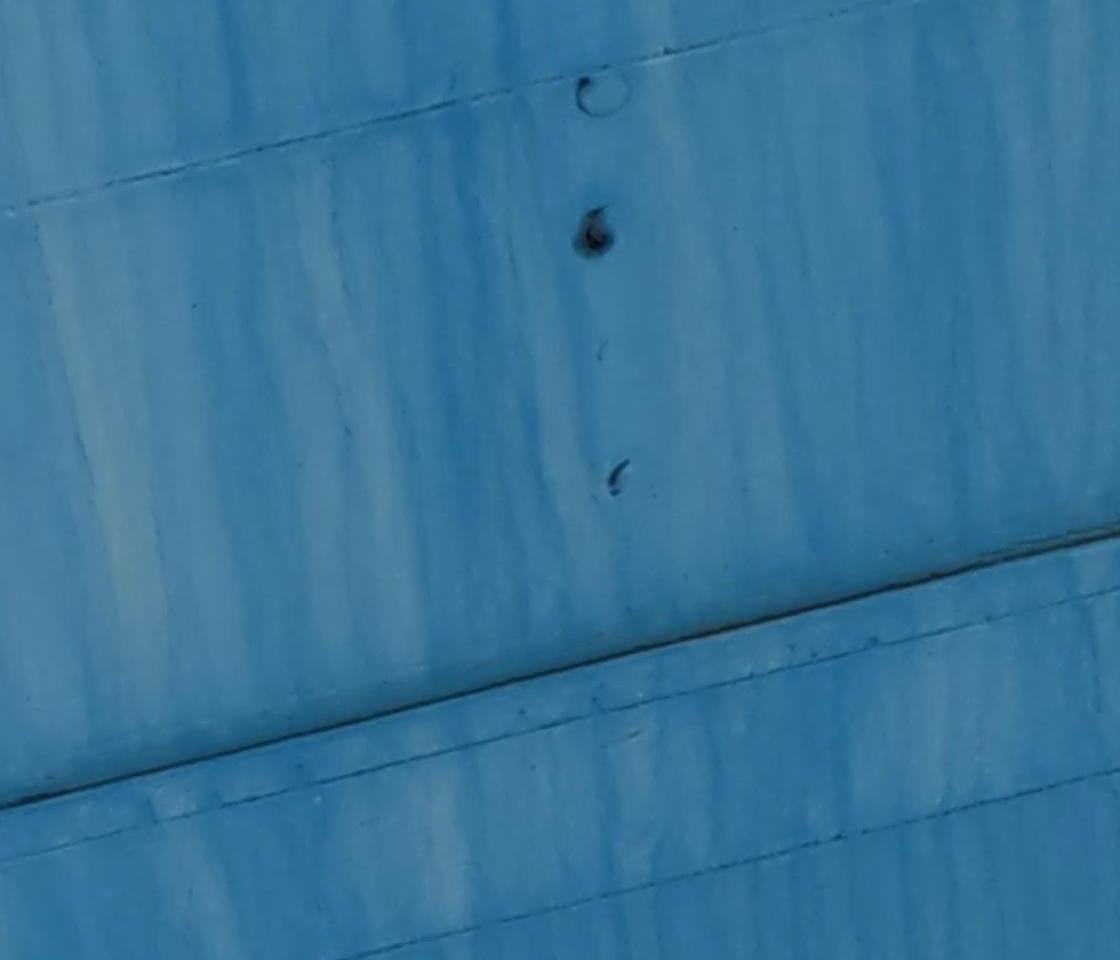scratch: (602, 450, 637, 514)
